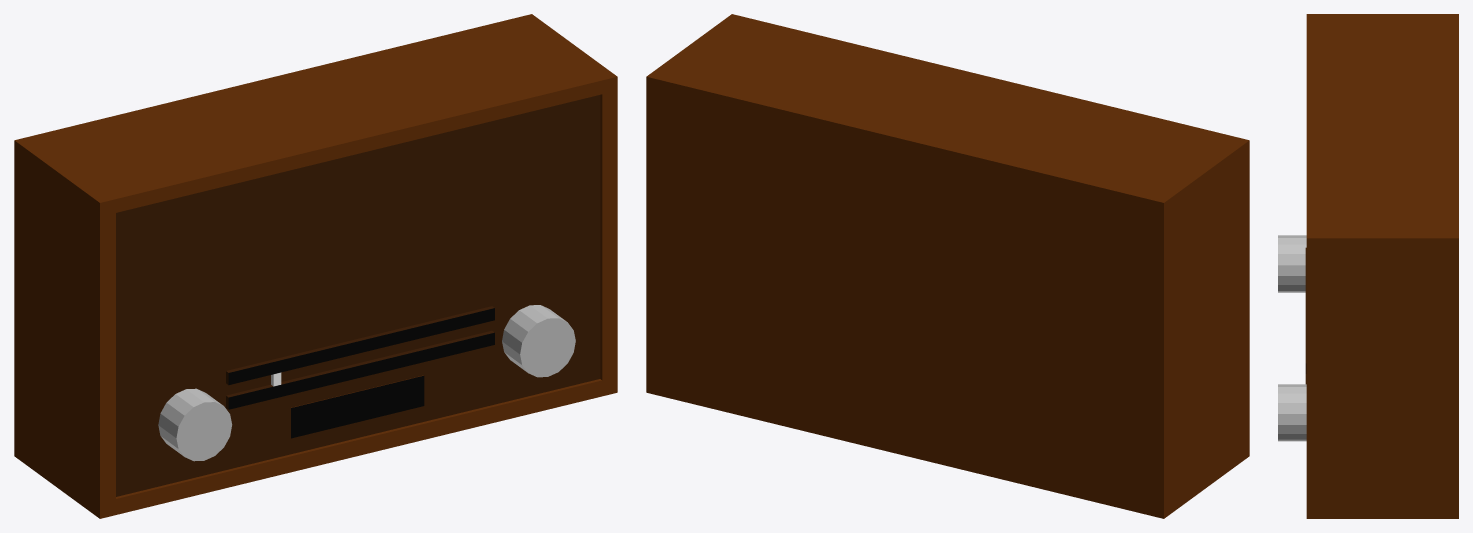
Rendered from Radio.fbx.
3 views of the same model, side by side, from view 1: azimuth 30°, elevation 25°; view 2: azimuth 150°, elevation 25°; view 3: azimuth 270°, elevation 25° (orthographic). The views are drawn at different scales.
Parts seen in each view (by area): view 1: Cube; view 2: Cube; view 3: Cube.
Part boxes in pixels (x1,y1,x2,y2): Cube: [14, 14, 617, 518]; Cube: [646, 14, 1249, 518]; Cube: [1278, 14, 1458, 518].
Bounding box in the file's own units: 698 × 407 × 238.
